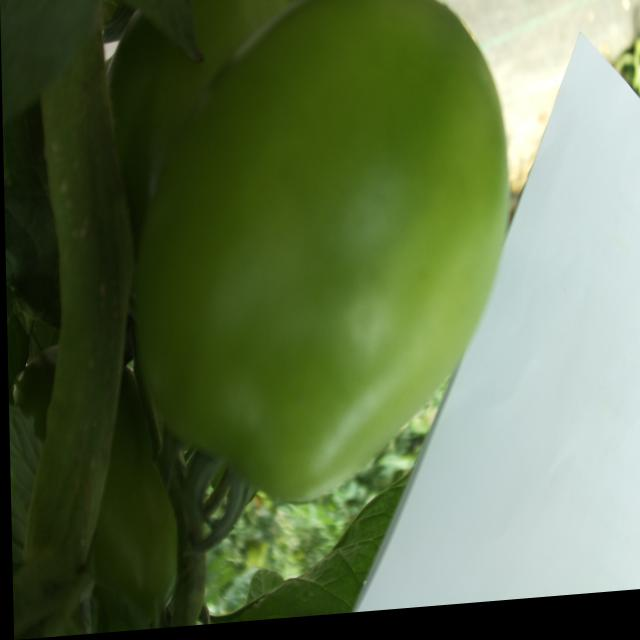yesil: (123, 0, 507, 518)
